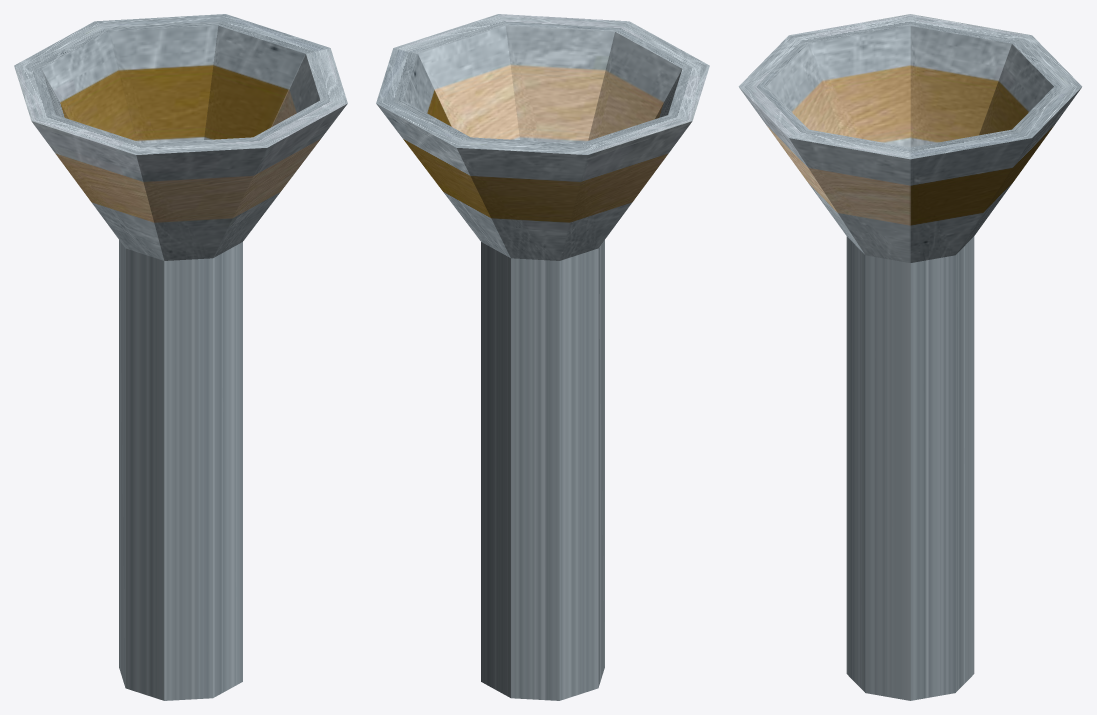
The picture shows the model from 3 angles, left to right: view 1: azimuth 30°, elevation 25°; view 2: azimuth 150°, elevation 25°; view 3: azimuth 270°, elevation 25°; orthographic projection.
Visible parts, largest first — view 1: base; view 2: base; view 3: base.
Part boxes in pixels (x1,y1,x2,y2): base: [14, 14, 347, 700]; base: [376, 14, 709, 700]; base: [738, 14, 1082, 700].
Bounding box in the file's own units: 4.7 × 8.85 × 4.7.
Materials: 1 (1 with a texture image).
